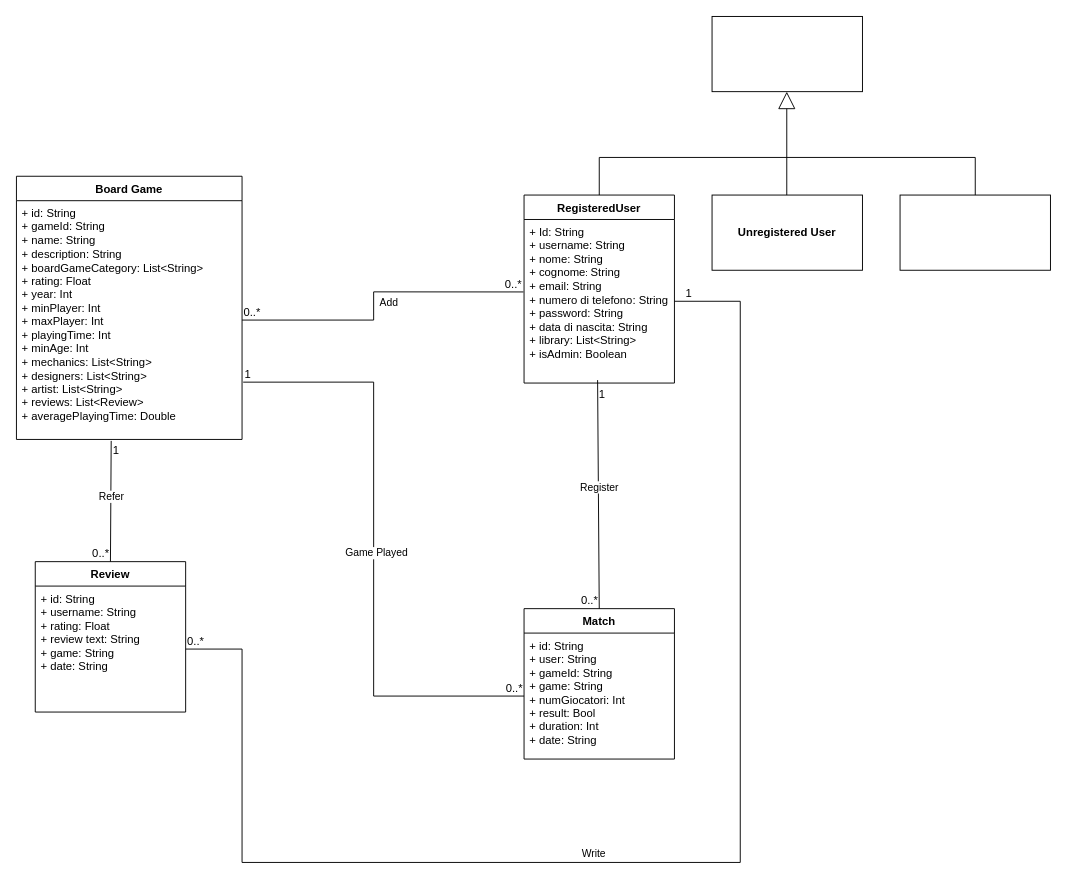
This 1067x880 diagram has some shape labels left out. The centre of each missing label's shape, as x and y in pixels:
Admin: the point at 974,232
User: the point at 786,54
